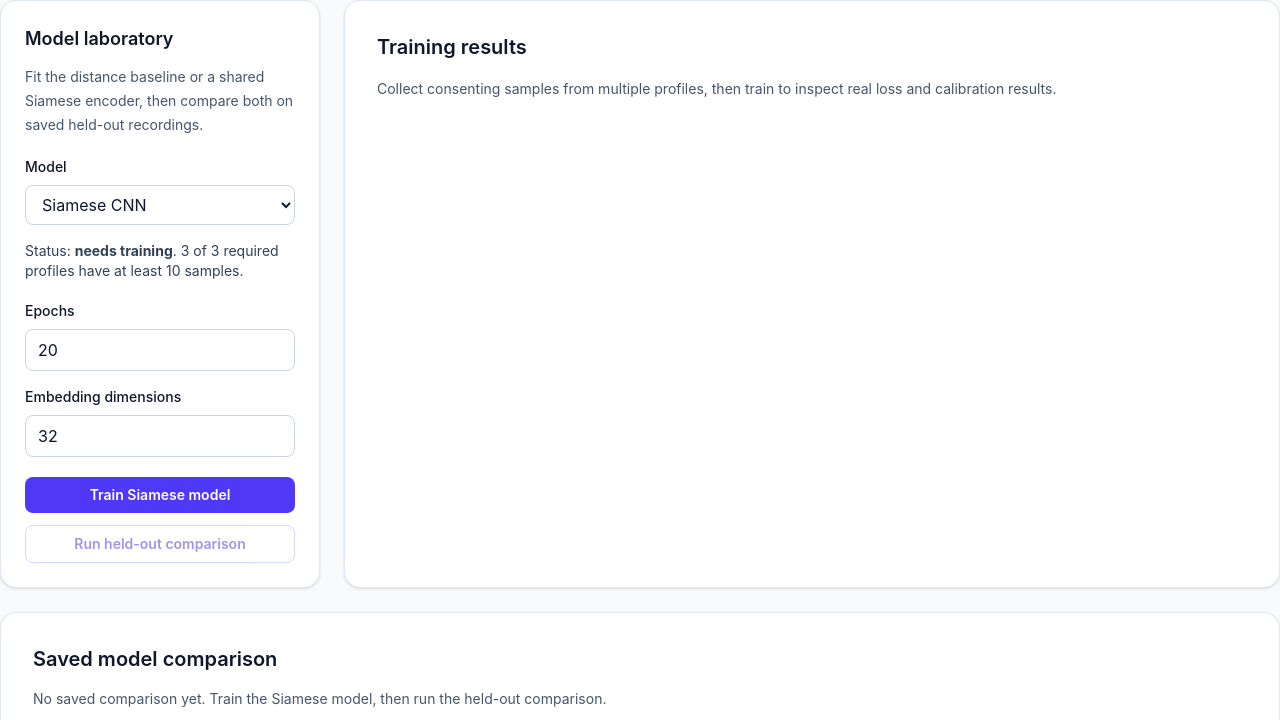
it: shows real training history after a neural run and sends the selected parameters
Expected: the text "needs training" is shown, [75,242,173,259]
Replace the text in the number field labelled "Epochs" with "1": (160, 350) [25,329,295,371]
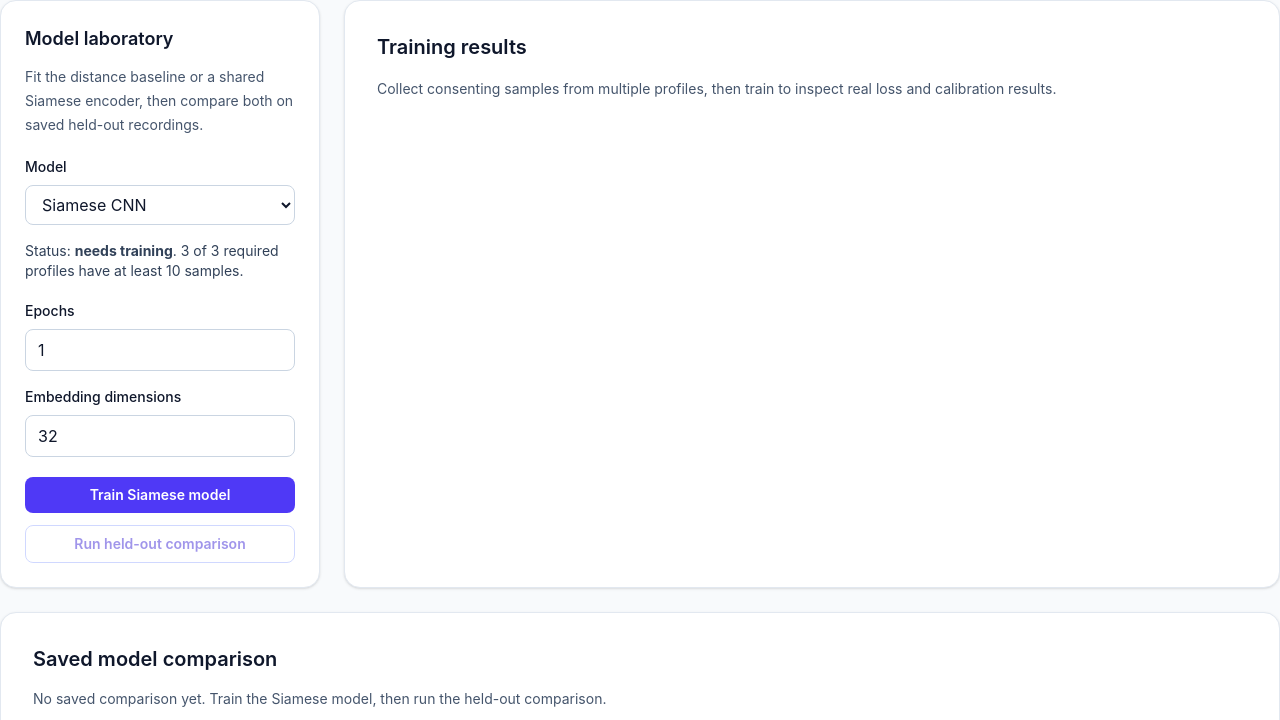
Click the button "Train Siamese model": (160, 495) [25,477,295,513]
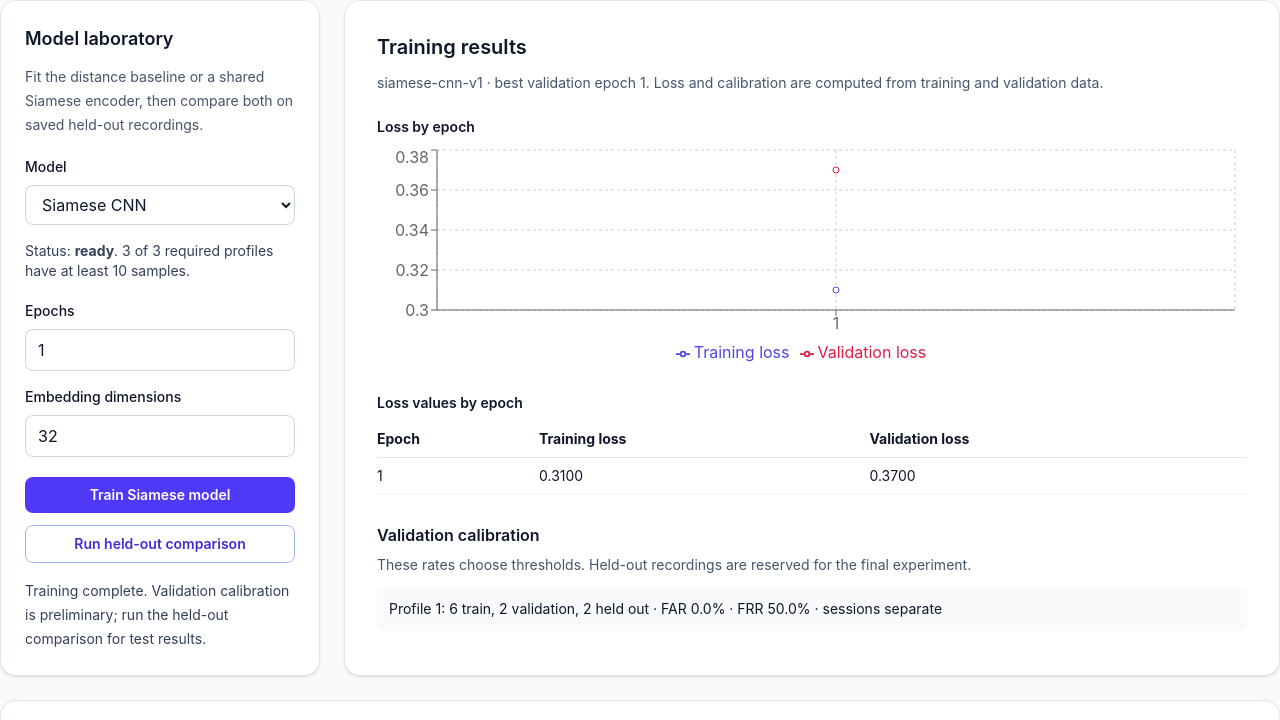
Result: the text "Training complete" is shown at [25,582,289,647]
Result: the text "0.3700" is shown at [869,458,1247,494]
Result: the element named "Training and validation loss chart" is shown at [377,117,1247,369]
